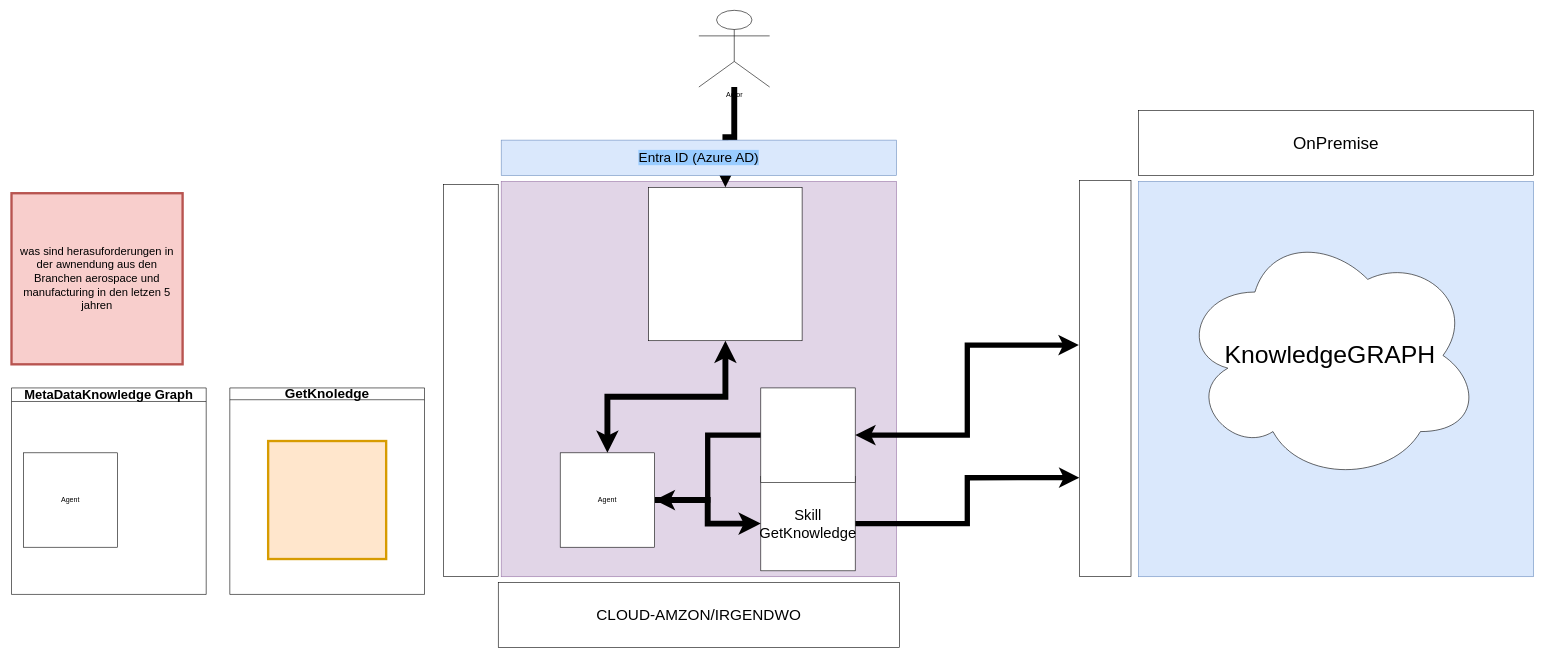
Image size: 1544x658. Some labels were removed from this diagram. Here are the shapes that lost their labels. From the top down, the centre of each, then its label:
[725,264]: SchäfflerChat
[470,380]: Auto Gen Studio
[1105,378]: API
[807,434]: Skill GetMetaData
[327,500]: SPARQL
